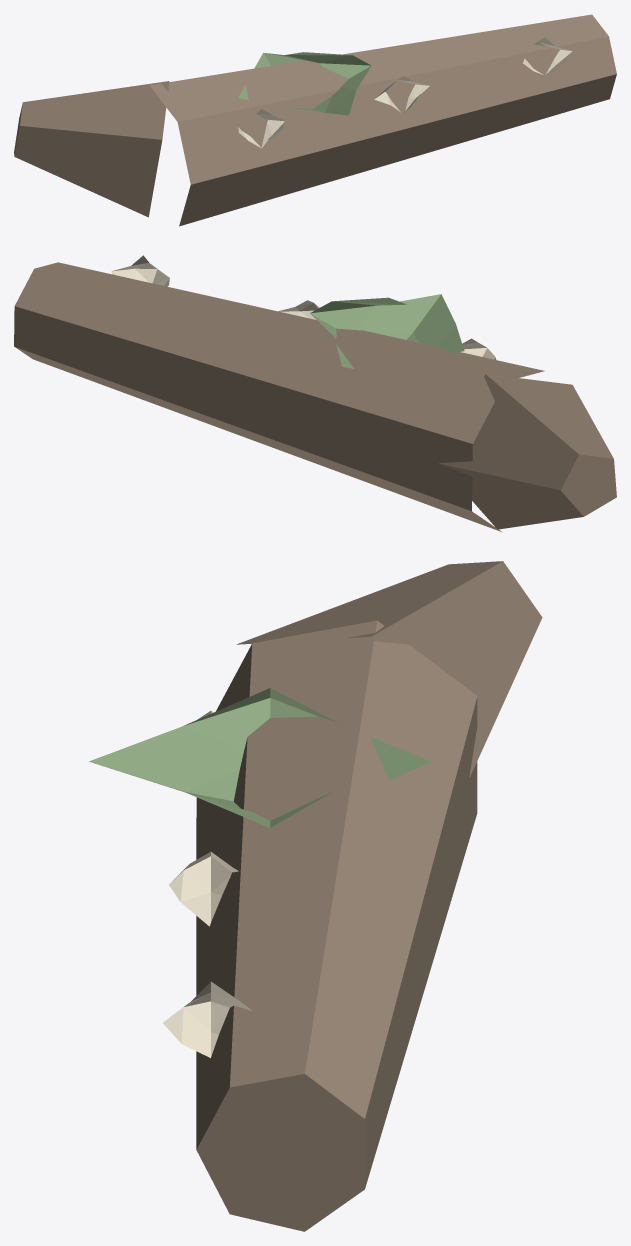
File: log_v43.glb
The picture shows the model from 3 angles, top to bottom: view 1: azimuth 30°, elevation 25°; view 2: azimuth 150°, elevation 25°; view 3: azimuth 270°, elevation 25°; orthographic projection. The views are drawn at different scales.
Parts seen in each view (by area): view 1: lod0; view 2: lod0; view 3: lod0.
Boxes of the visible parts, x1,y1,x2,y2 form: lod0: [14, 14, 616, 226]; lod0: [14, 255, 616, 532]; lod0: [89, 561, 542, 1231].
Size of what is drawn, in the model's own units: 2.71 by 0.7276 by 0.9815.
